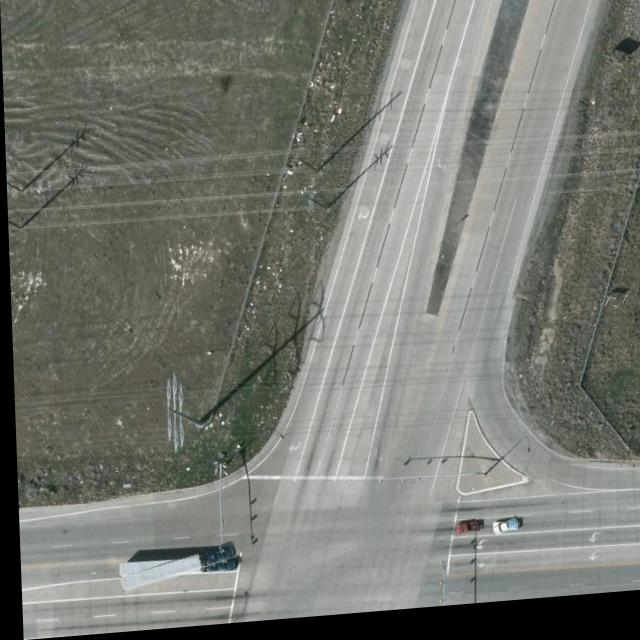vehicle: (114, 550, 233, 589), (488, 526, 516, 543), (451, 529, 478, 542)
